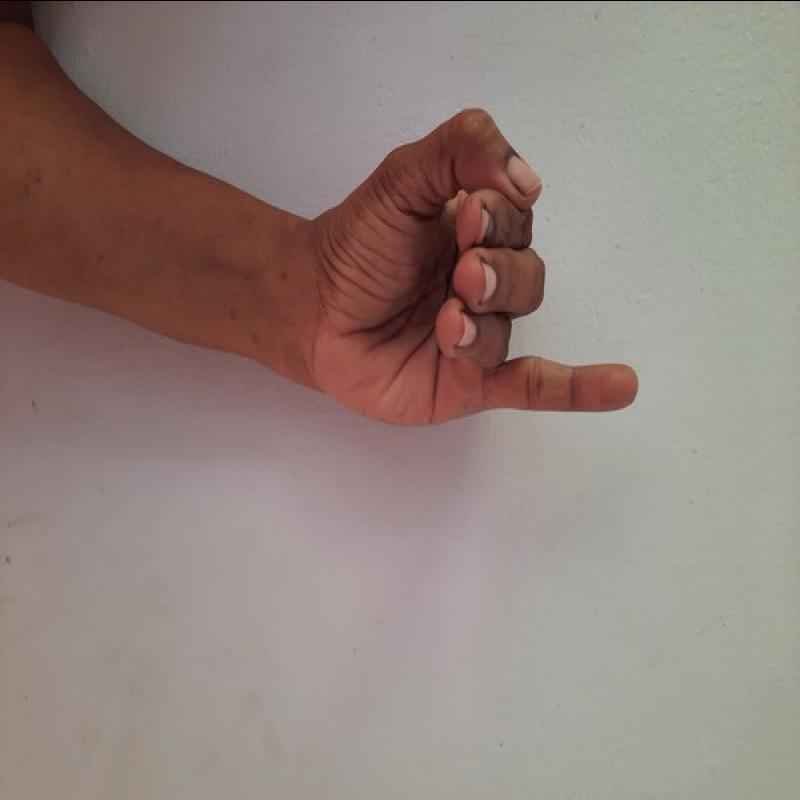Kartharee Mukham: (296, 95, 645, 431)
